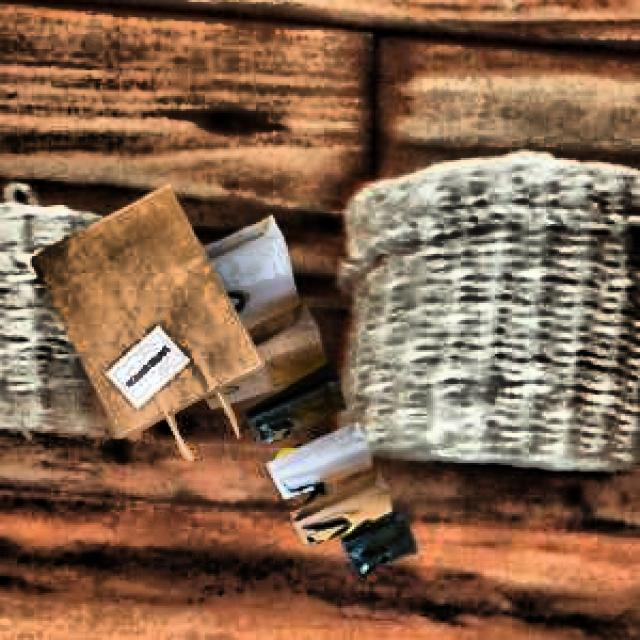Paper-bag: (173, 215, 420, 575), (26, 197, 264, 474)
